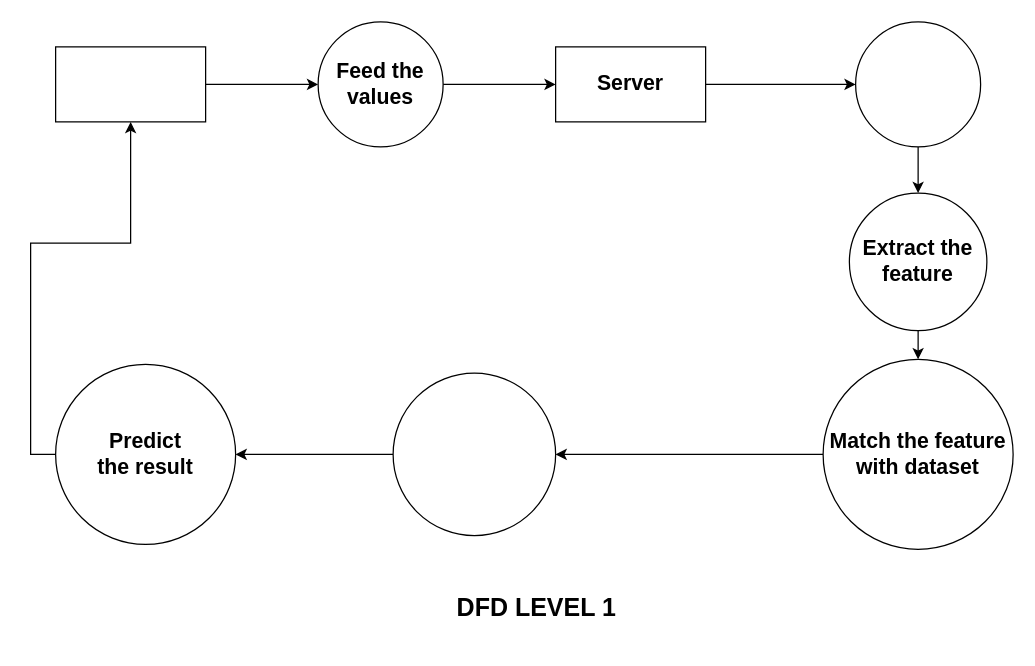
Some shapes in this 1035 by 666 pixel diagram are drawn without their labels. The shapes that lost their labels are listed below. From the top down, each one's centre as x and y in pixels, then its label:
At (x=130, y=84): "User".
At (x=917, y=84): "Collect the data".
At (x=474, y=454): "Process the data".
